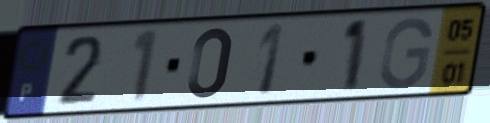0: (185, 25, 235, 102)
1: (128, 26, 162, 108), (254, 20, 287, 100), (340, 17, 372, 95)
2: (53, 34, 106, 107)
G: (377, 15, 436, 92)
